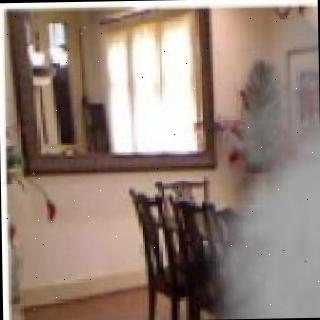smoke: (234, 34, 320, 318)
